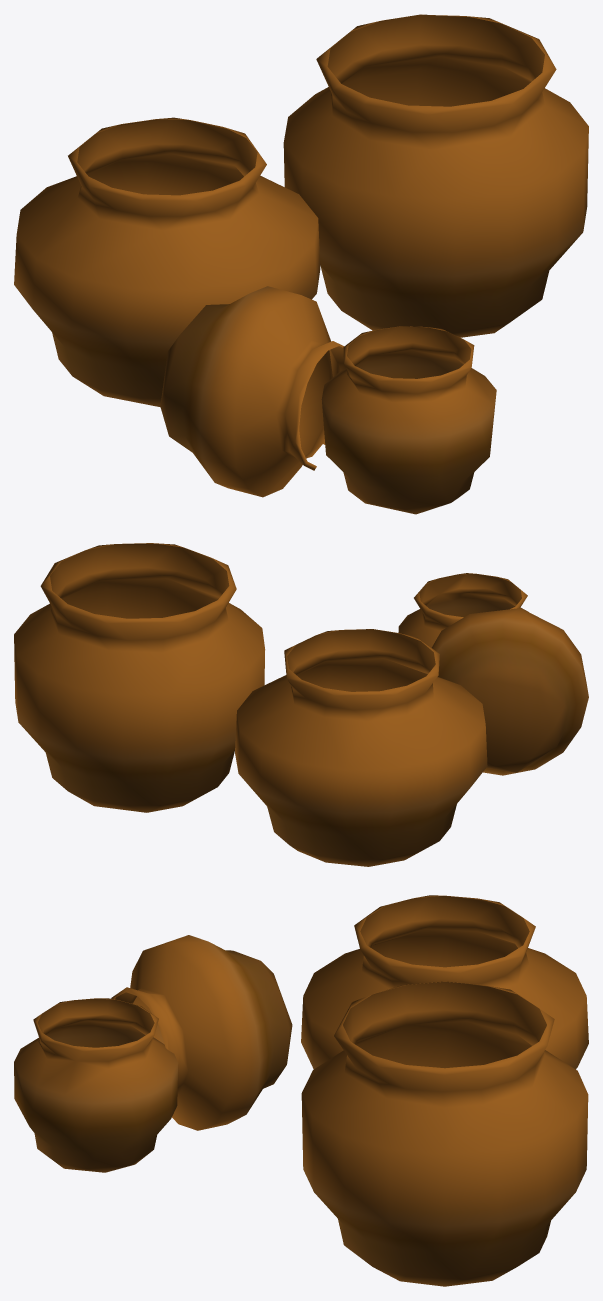
File: Vasos.glb
3 renders of one model, top to bottom at view 1: azimuth 30°, elevation 25°; view 2: azimuth 150°, elevation 25°; view 3: azimuth 270°, elevation 25°, orthographic. The views are drawn at different scales.
Visible parts, largest first — view 1: Vasos; view 2: Vasos; view 3: Vasos.
Boxes of the visible parts, x1,y1,x2,y2 form: Vasos: (14, 14, 588, 514); Vasos: (14, 543, 588, 866); Vasos: (14, 895, 588, 1286).
Size of the model in its own units: 3.99 by 1.8 by 3.98.
Materials: 1 (1 with a texture image).
